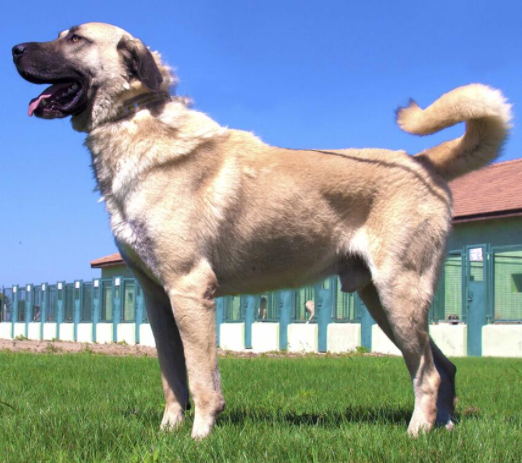dog: (12, 19, 510, 429)
